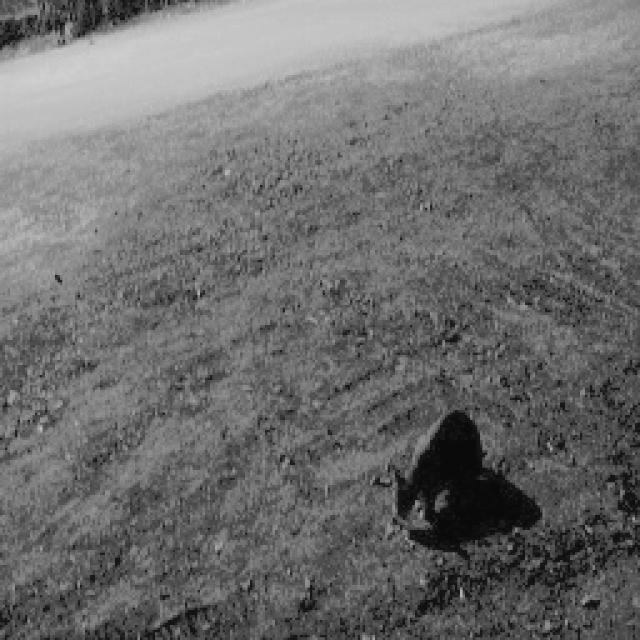cat: (390, 409, 490, 526)
